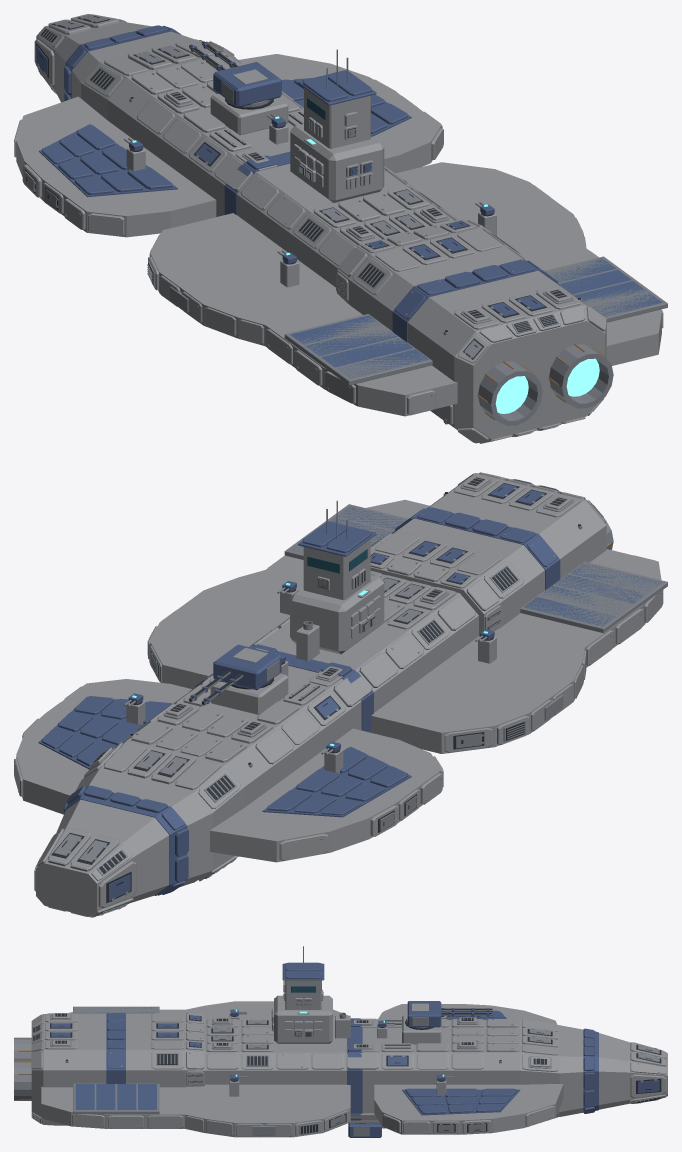
Rendered from earth_air_defense_cruiser.glb.
The picture shows the model from 3 angles, top to bottom: view 1: azimuth 30°, elevation 25°; view 2: azimuth 150°, elevation 25°; view 3: azimuth 270°, elevation 25°; orthographic projection. The views are drawn at different scales.
Visible parts, largest first — view 1: FleetHull, mesh_turret_gun_1; view 2: FleetHull, mesh_turret_gun_1; view 3: FleetHull, mesh_turret_gun_1, mesh_turret_gun_2, mesh_recoil_gun_1.
Boxes of the visible parts, box(x1,y1,x2,y2) form: FleetHull: box(14, 14, 667, 443); mesh_turret_gun_1: box(213, 62, 281, 107); FleetHull: box(14, 472, 667, 917); mesh_turret_gun_1: box(213, 644, 281, 690); FleetHull: box(14, 946, 667, 1137); mesh_turret_gun_1: box(406, 1001, 441, 1028); mesh_turret_gun_2: box(348, 1123, 381, 1137); mesh_recoil_gun_1: box(441, 1008, 492, 1016).
Size of the model in its own units: 148 by 104 by 332.
